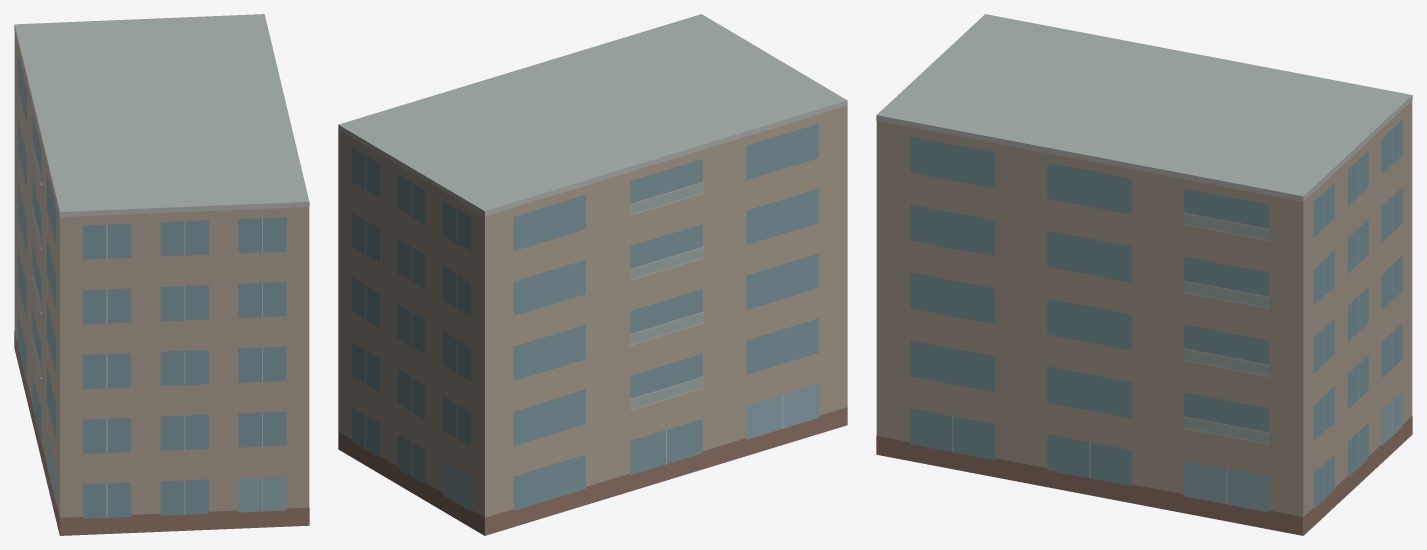
File: survey-upis-32541060.glb
3 views of the same model, side by side, from view 1: azimuth 30°, elevation 25°; view 2: azimuth 150°, elevation 25°; view 3: azimuth 270°, elevation 25° (orthographic). The views are drawn at different scales.
Visible parts, largest first — view 1: survey-upis-32541060.tmp; view 2: survey-upis-32541060.tmp; view 3: survey-upis-32541060.tmp.
Part boxes in pixels (bbox=[...]): survey-upis-32541060.tmp: bbox=[14, 14, 309, 535]; survey-upis-32541060.tmp: bbox=[338, 14, 847, 535]; survey-upis-32541060.tmp: bbox=[876, 14, 1412, 535].
Bounding box in the file's own units: 17.57 × 15.25 × 21.83.
